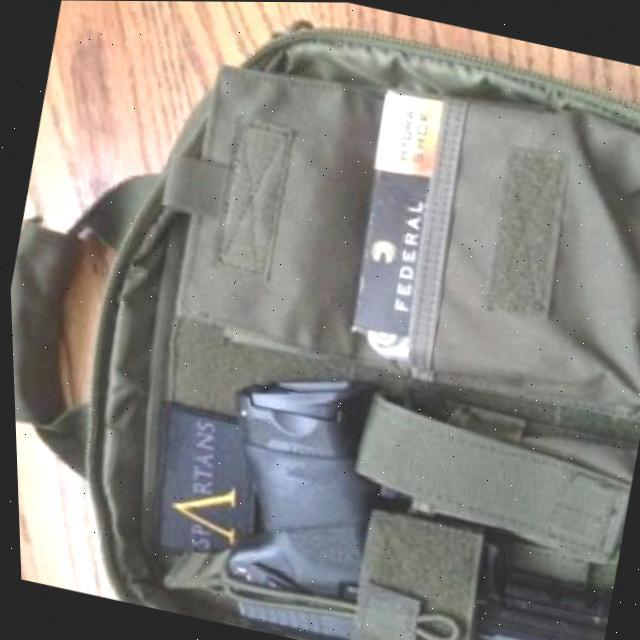gun: (183, 358, 640, 640)
